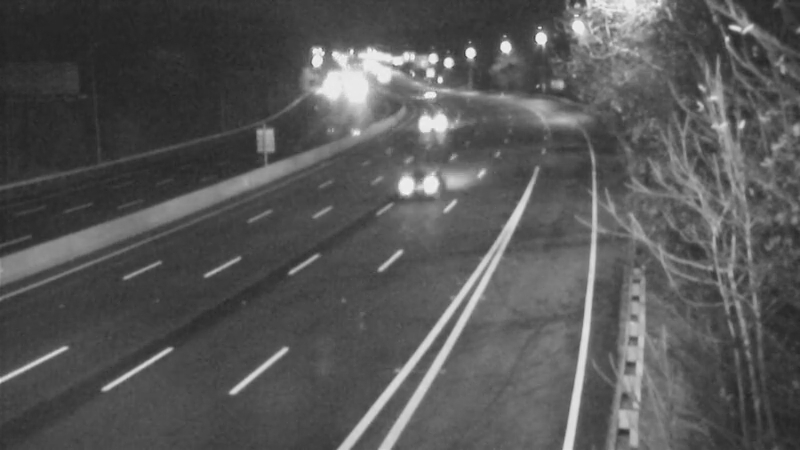vehicle: (381, 147, 461, 227), (403, 68, 453, 118), (402, 101, 452, 151)
